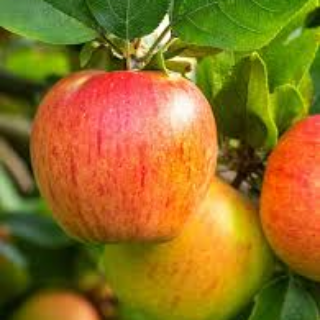tao: (28, 64, 223, 251)
